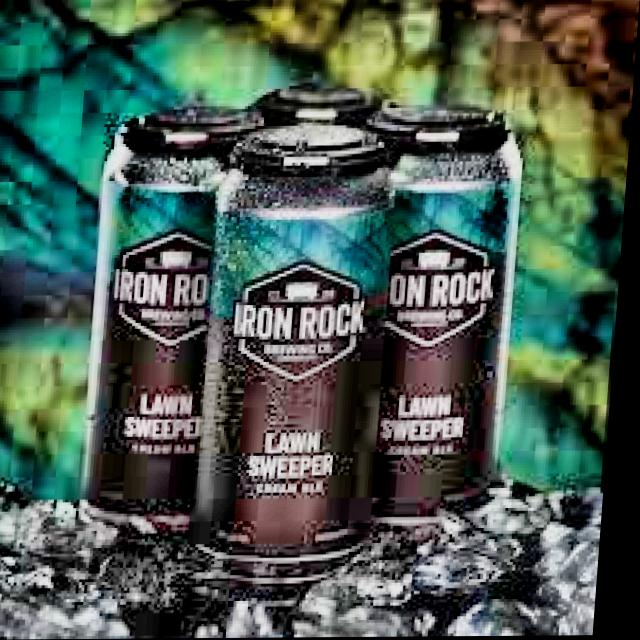can: (203, 119, 404, 571), (80, 105, 274, 536), (347, 96, 533, 530), (239, 81, 398, 125)
